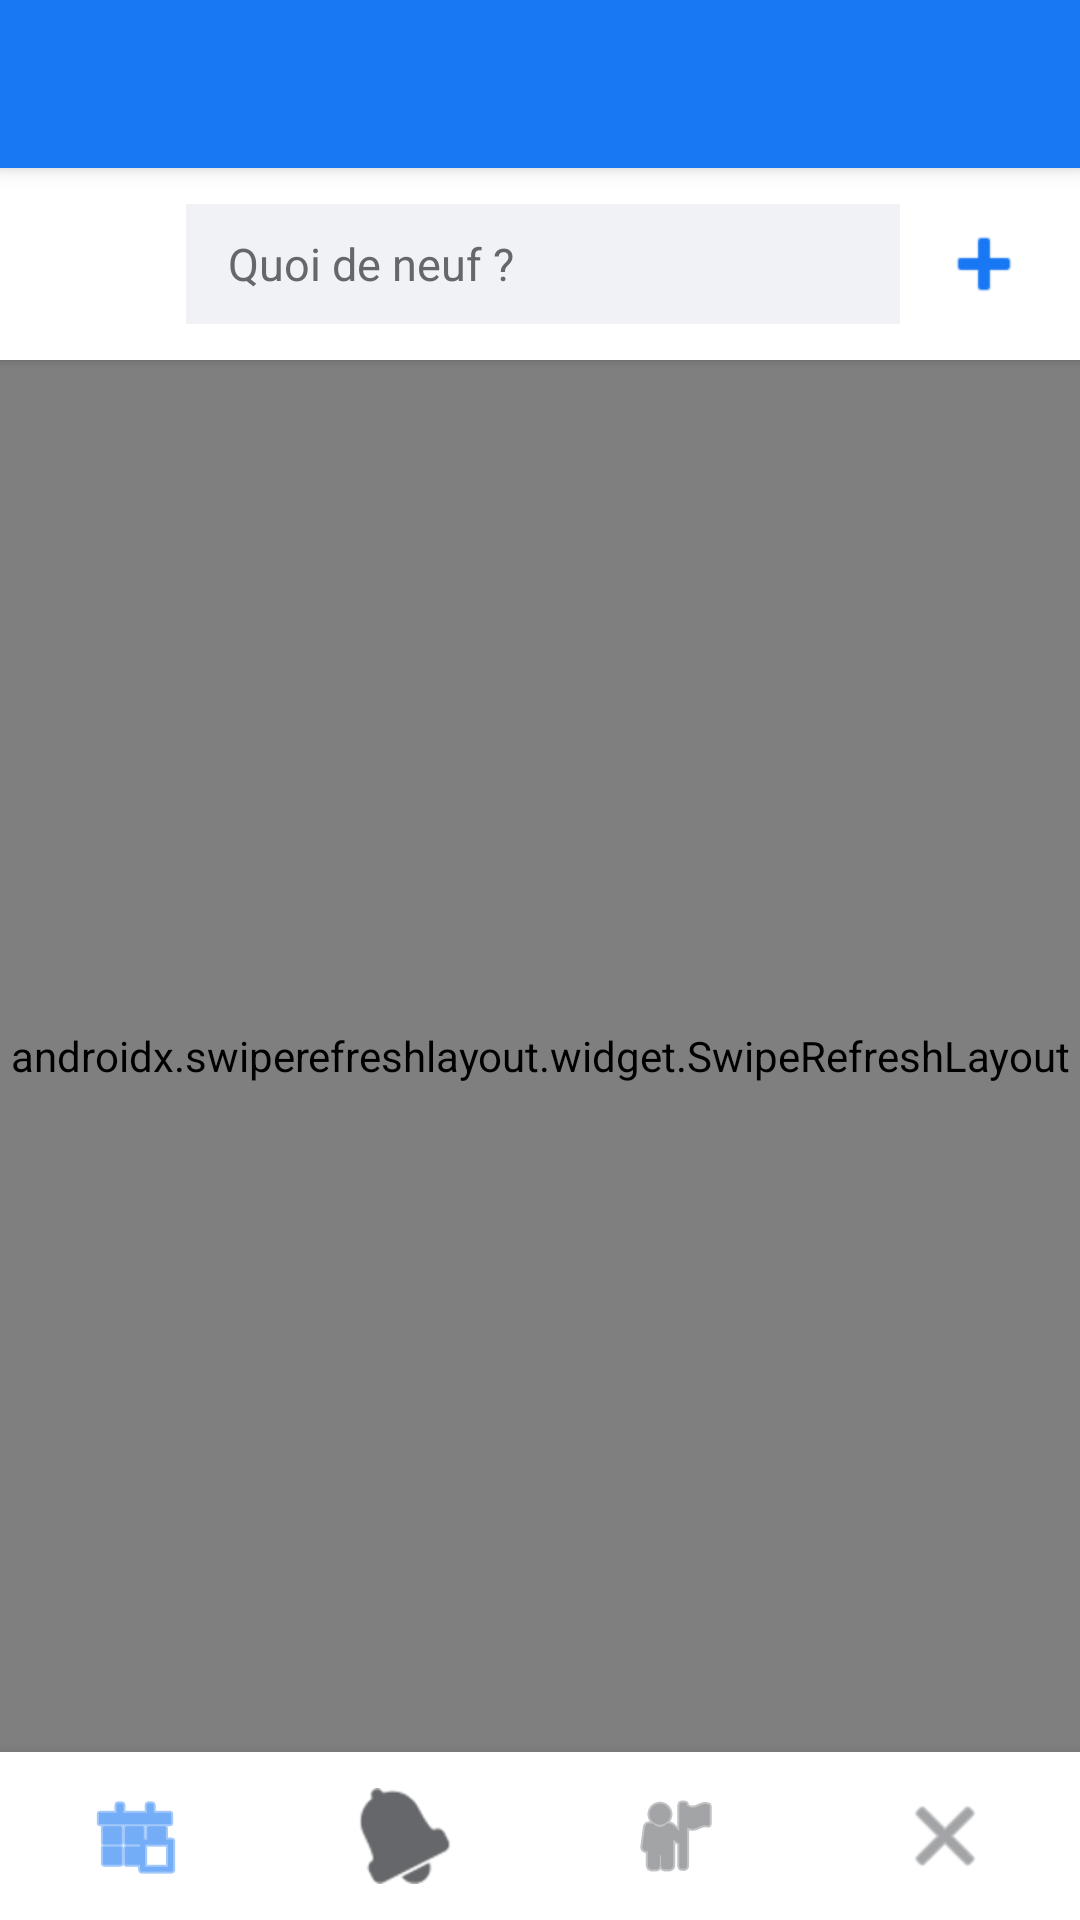

Locate icon controls on the screen. Image size 1080px x 1920px, boxes as (x1, y1, x2, y2).
add: (957, 237, 1011, 291)
Notifications: (360, 1788, 450, 1884)
